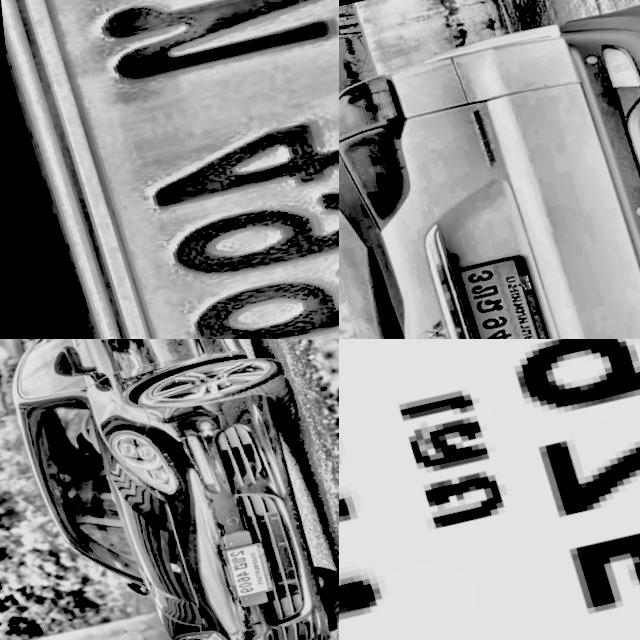license-plate: (0, 0, 339, 339), (339, 339, 640, 640), (444, 250, 553, 339), (209, 537, 276, 604)
